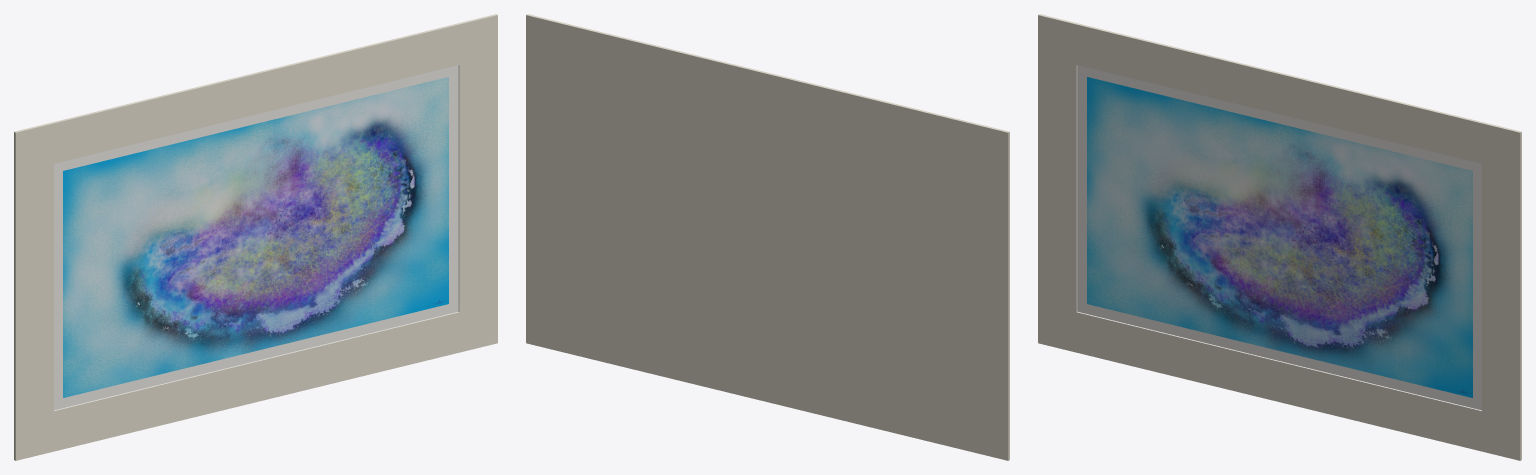
File: hz009_moyen_passe-partout.glb
3 views of the same model, side by side, from view 1: azimuth 30°, elevation 25°; view 2: azimuth 150°, elevation 25°; view 3: azimuth 330°, elevation 25° (orthographic).
Parts seen in each view (by area): view 1: hz009_moyen_passe-partout; view 2: hz009_moyen_passe-partout; view 3: hz009_moyen_passe-partout.
Part boxes in pixels (<box>): hz009_moyen_passe-partout: <box>14,14,497,460</box>; hz009_moyen_passe-partout: <box>526,14,1009,460</box>; hz009_moyen_passe-partout: <box>1038,14,1521,460</box>.
Bounding box in the file's own units: 1 × 0.65 × 0.0055.
Materials: 4 (1 with a texture image).
